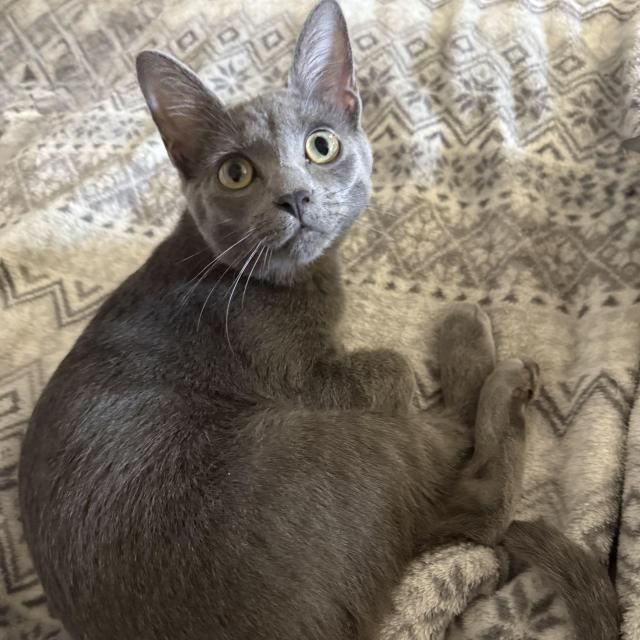russian_blue_cat: (92, 0, 420, 316)
